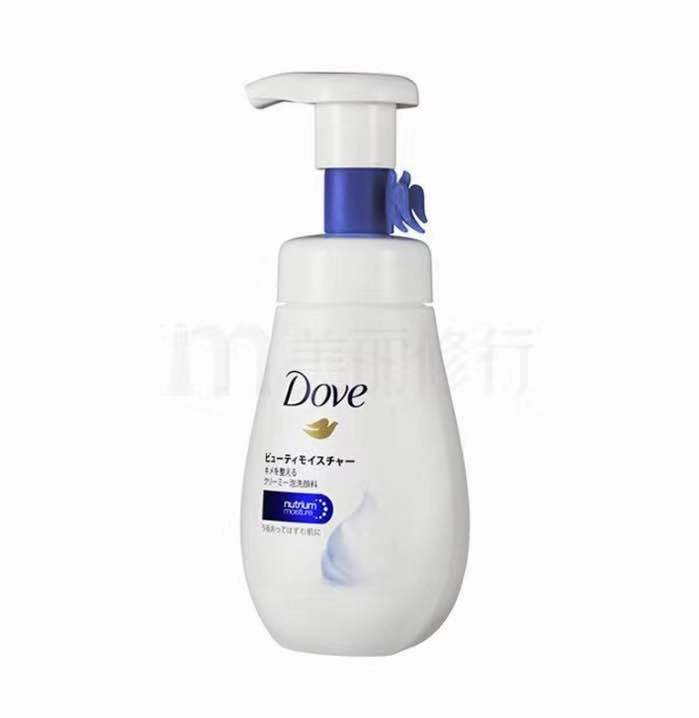cosmetic: (236, 68, 475, 662)
